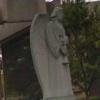Statue: (24, 7, 78, 97)
